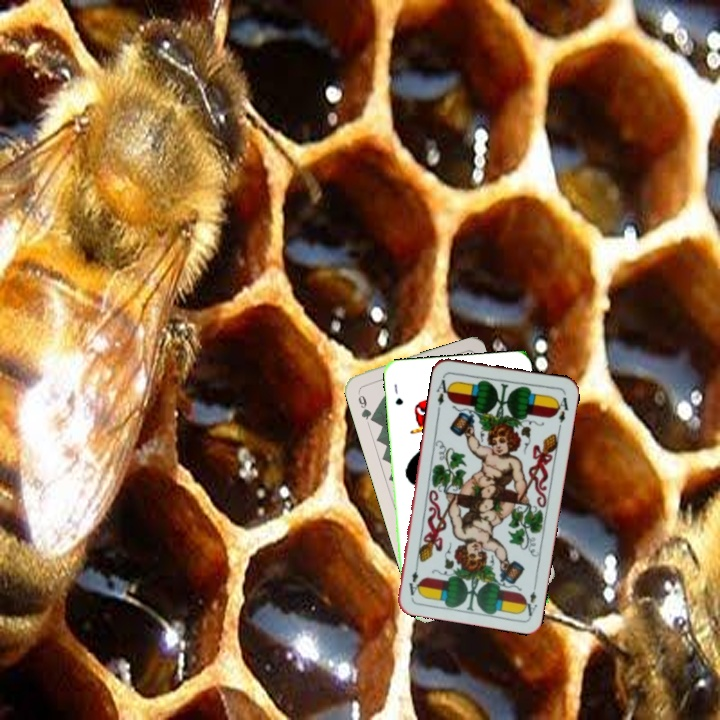EA: (432, 372, 454, 412), (519, 578, 540, 618)
G9: (354, 387, 377, 425)
GU: (390, 380, 406, 407)
